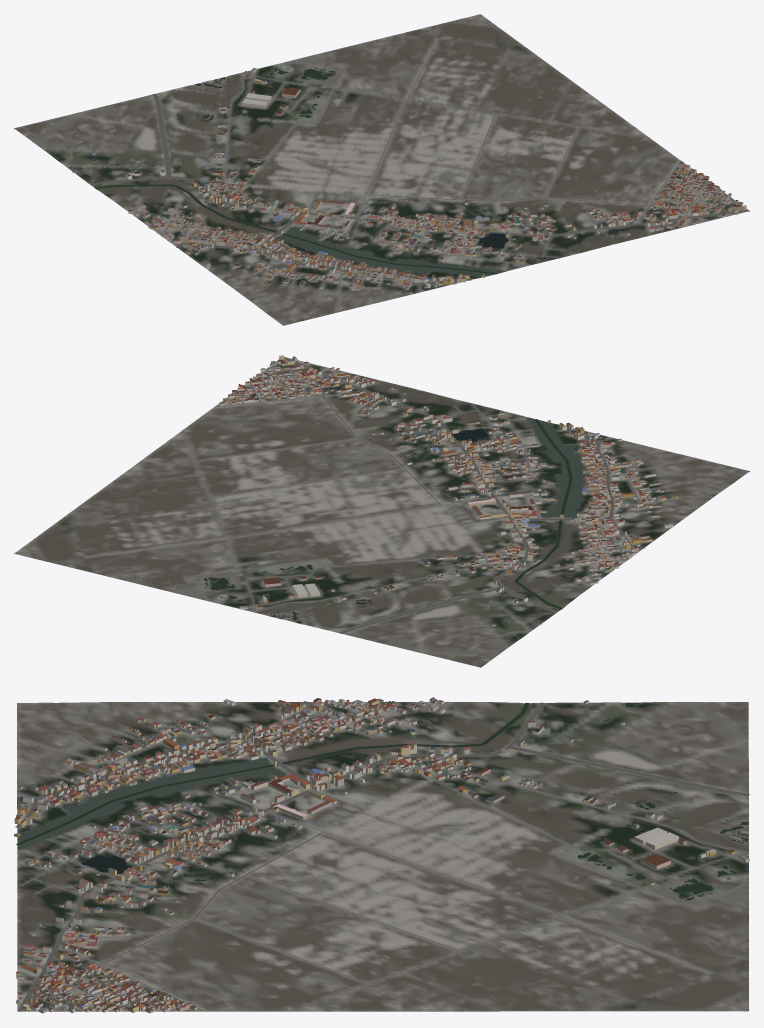
3 views of the same model, one above another, from view 1: azimuth 30°, elevation 25°; view 2: azimuth 150°, elevation 25°; view 3: azimuth 270°, elevation 25° (orthographic). The views are drawn at different scales.
Parts seen in each view (by area): view 1: ground, buildings, roads, water; view 2: ground, buildings, roads, water; view 3: ground, buildings, roads, water.
Part boxes in pixels (x1,y1,x2,y2): ground: (14, 14, 749, 325); buildings: (72, 68, 746, 294); roads: (90, 14, 749, 312); water: (55, 67, 508, 277); ground: (14, 357, 749, 667); buildings: (219, 355, 678, 626); roads: (15, 357, 695, 633); water: (204, 417, 584, 638); ground: (17, 702, 748, 1011); buildings: (14, 697, 749, 1013); roads: (15, 701, 749, 1011); water: (16, 702, 748, 900).
Size of the model in its own units: 1417 by 23.8 by 1410.
